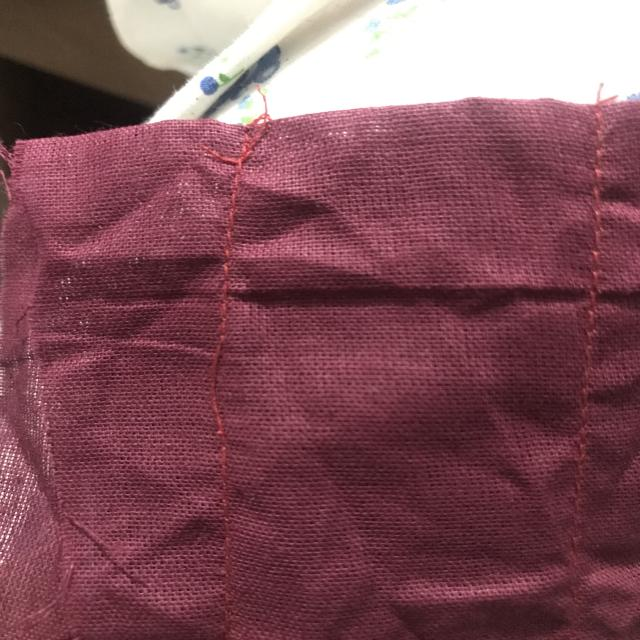skip: (182, 322, 248, 453)
